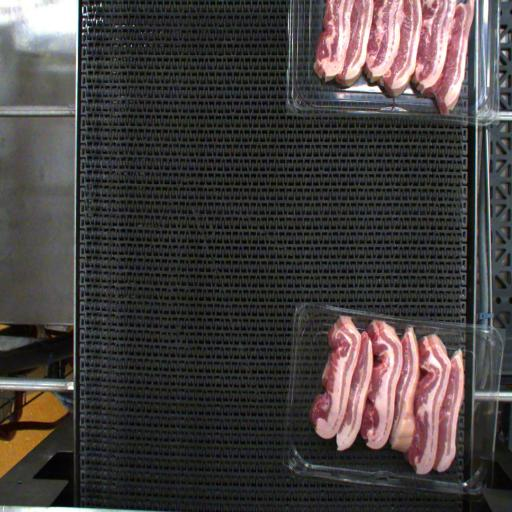packaging-error: (334, 302, 358, 324)
twisted-meat: (392, 325, 418, 453)
